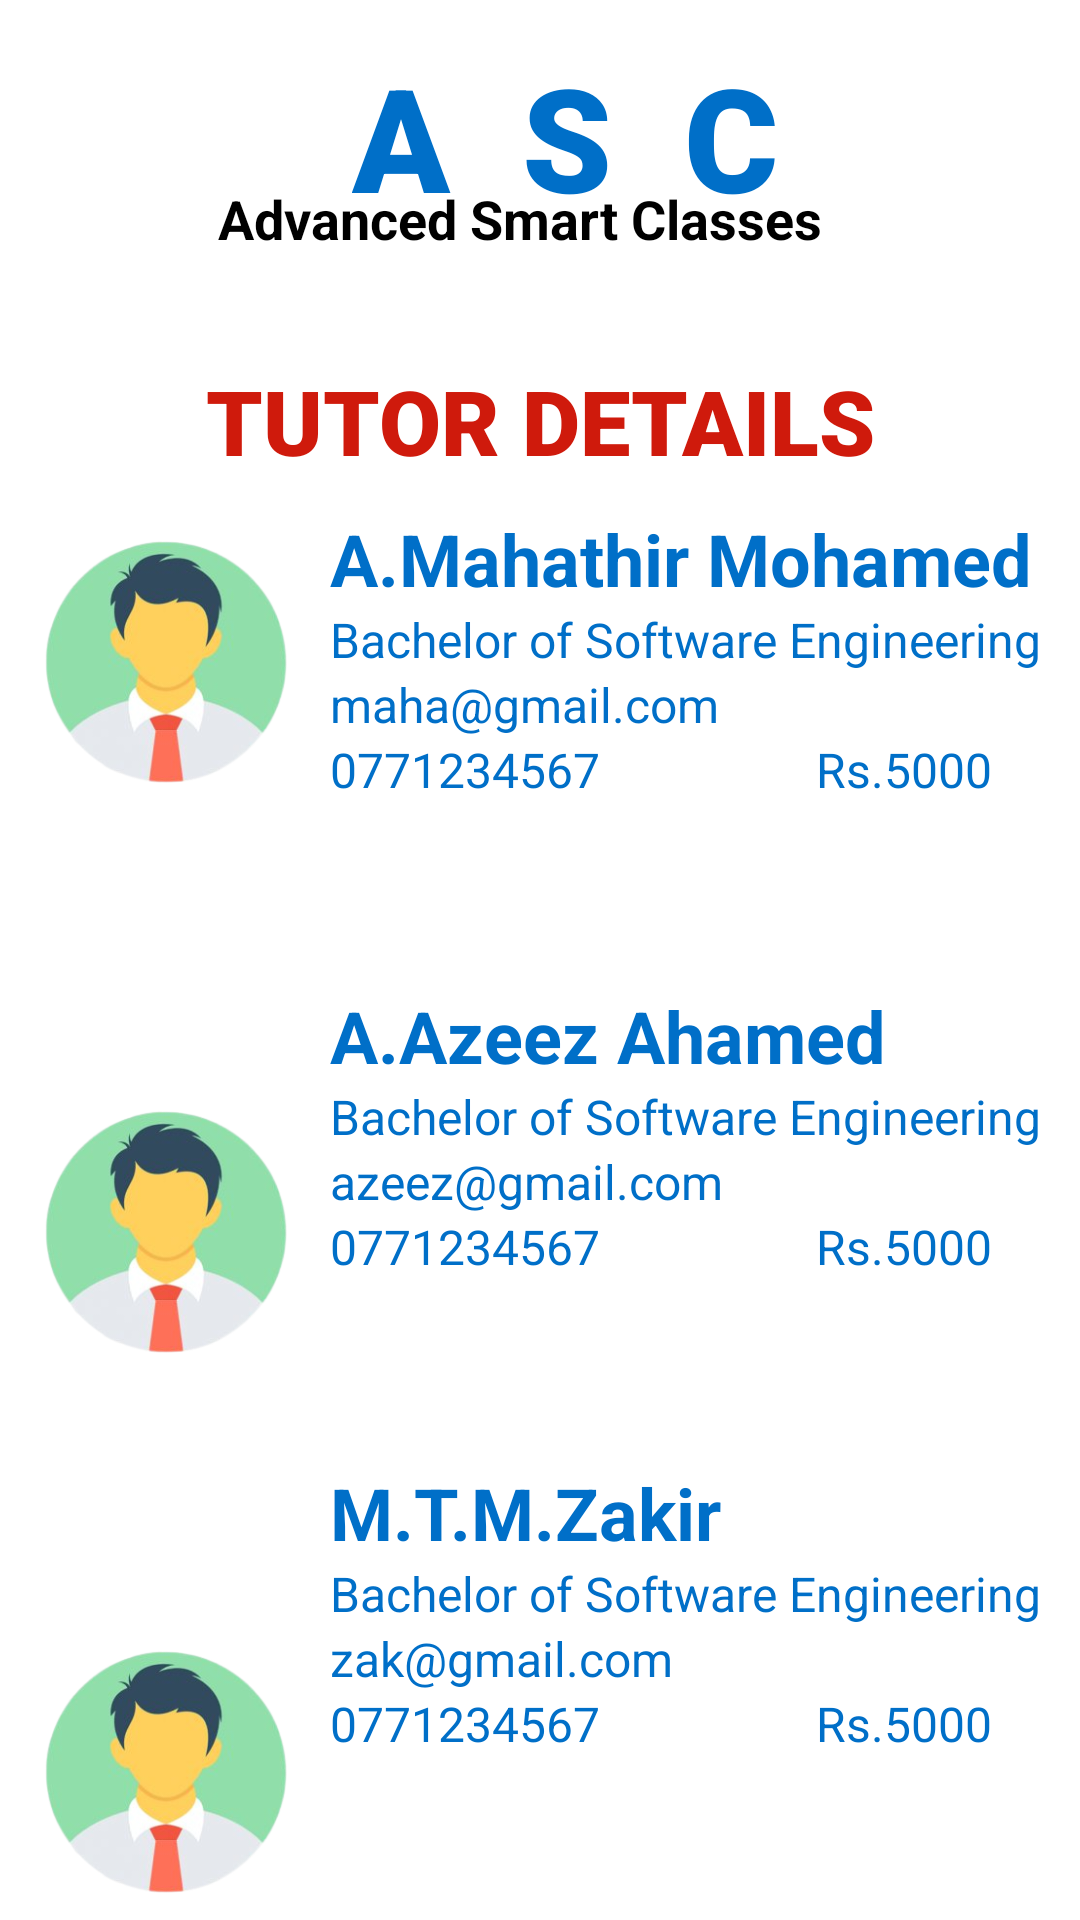

Named icons in this screenshot (1080px×1920px) and their centers, [x,y]:
user: [166,662], [166,1232], [166,1772]
